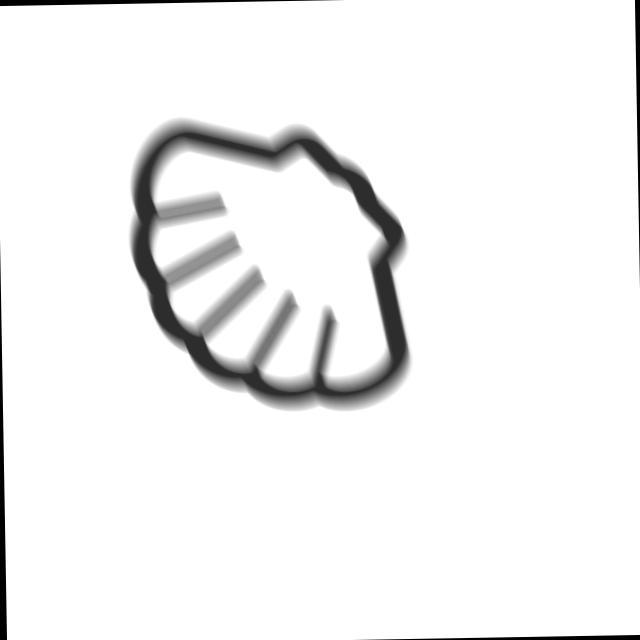shell: (120, 108, 419, 423)
